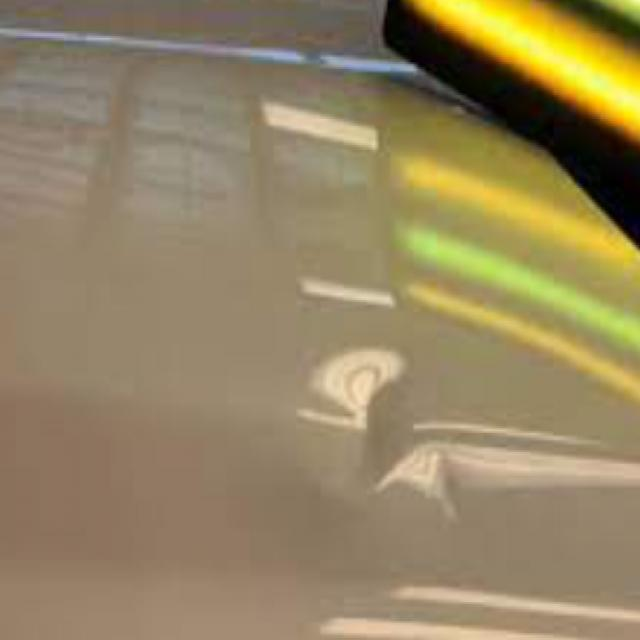dents: (316, 354, 450, 532)
